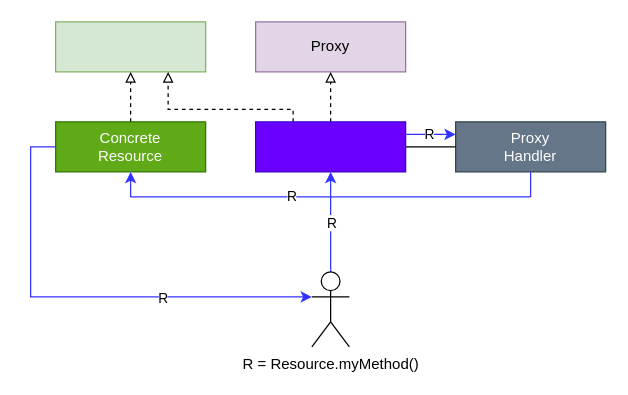
The diagram is 628 pixels wide and 395 high, and some of its shapes have lost their labels. The shapes that lost their labels are listed below. From the top down, each one's box as (x1, y1, x2, y2) in pixels, then its label:
(54, 21, 206, 72): Resource
(254, 121, 406, 172): Proxy Instance
